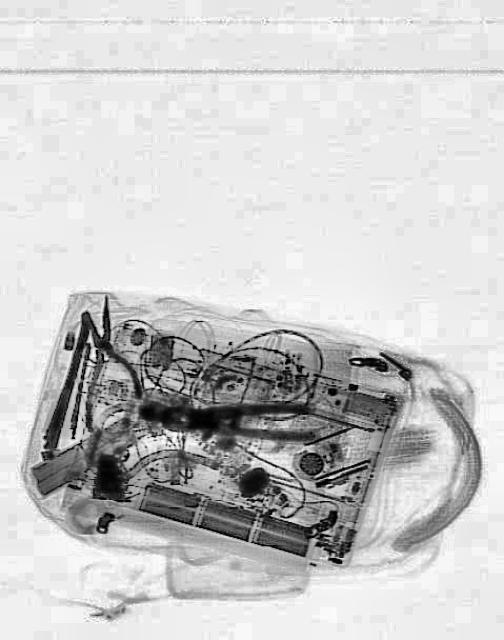Pliers: (60, 288, 146, 429), (188, 399, 314, 438)
